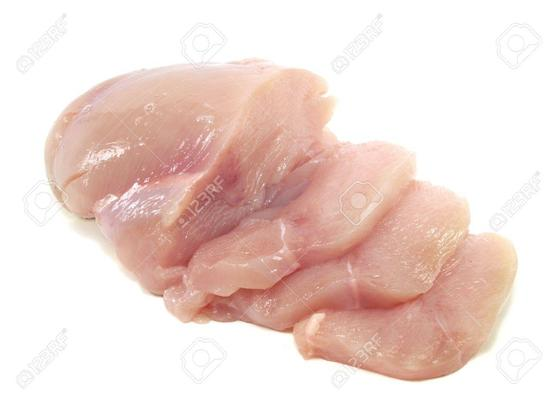chicken_fillet: (44, 56, 521, 376)
